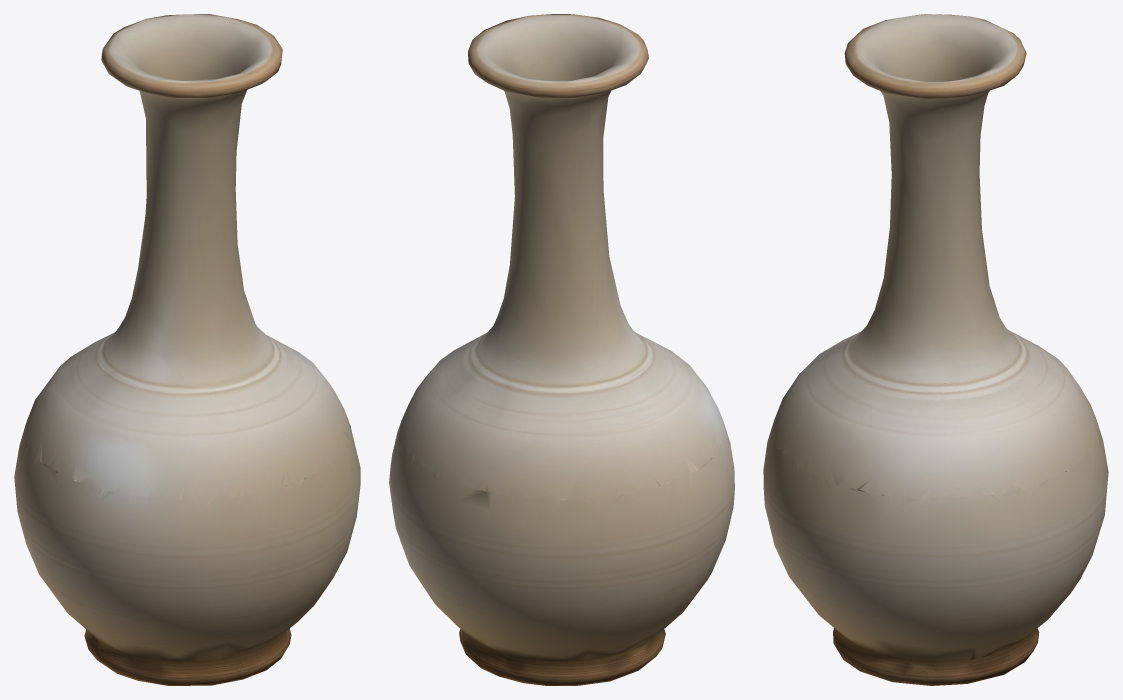
Rendered from tudingping.glb.
The picture shows the model from 3 angles, left to right: view 1: azimuth 30°, elevation 25°; view 2: azimuth 150°, elevation 25°; view 3: azimuth 270°, elevation 25°; orthographic projection.
Parts seen in each view (by area): view 1: 土定瓶; view 2: 土定瓶; view 3: 土定瓶.
Part boxes in pixels (x1=…): 土定瓶: x1=14, y1=14, x2=360, y2=685; 土定瓶: x1=389, y1=14, x2=734, y2=685; 土定瓶: x1=763, y1=14, x2=1108, y2=685.
Bounding box in the file's own units: 0.1839 × 0.35 × 0.183.
Materials: 1 (1 with a texture image).
